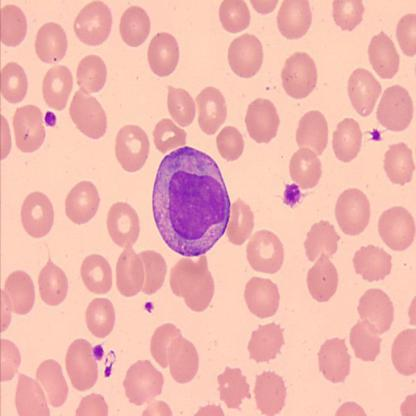Atypical lymphocyte: (150, 146, 230, 256)
